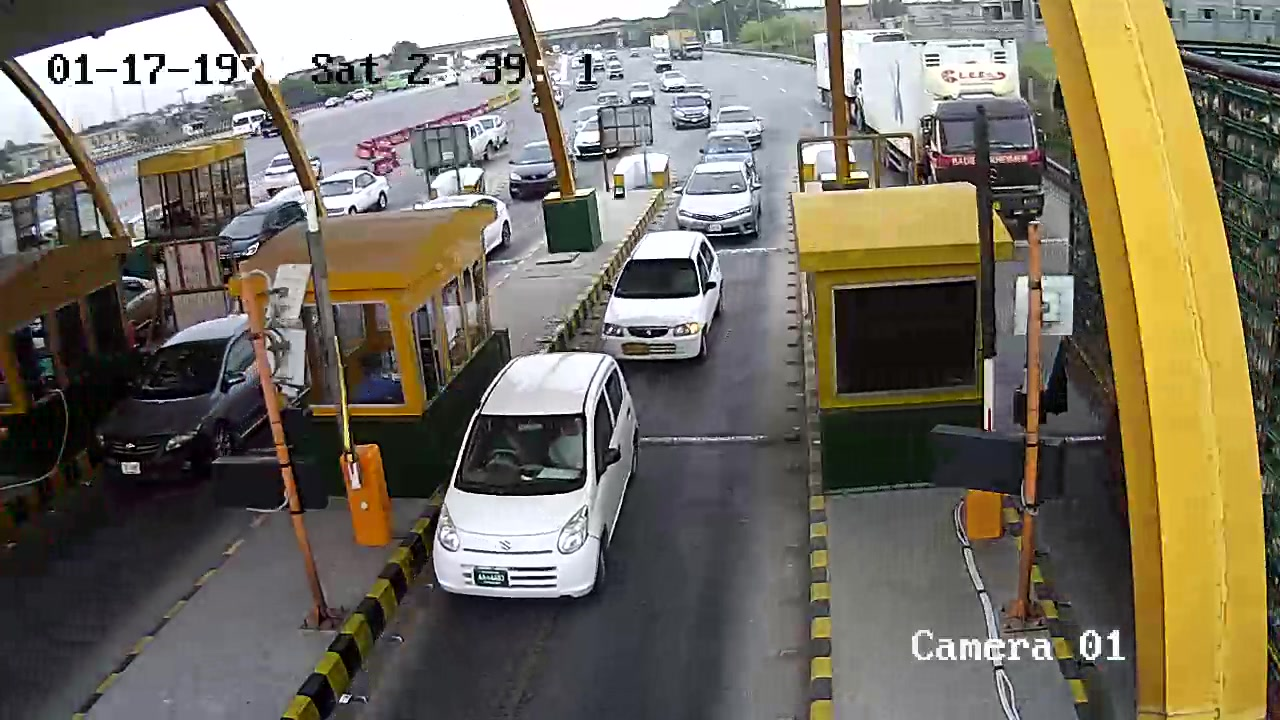F1: (423, 350, 660, 612), (599, 225, 729, 371)
